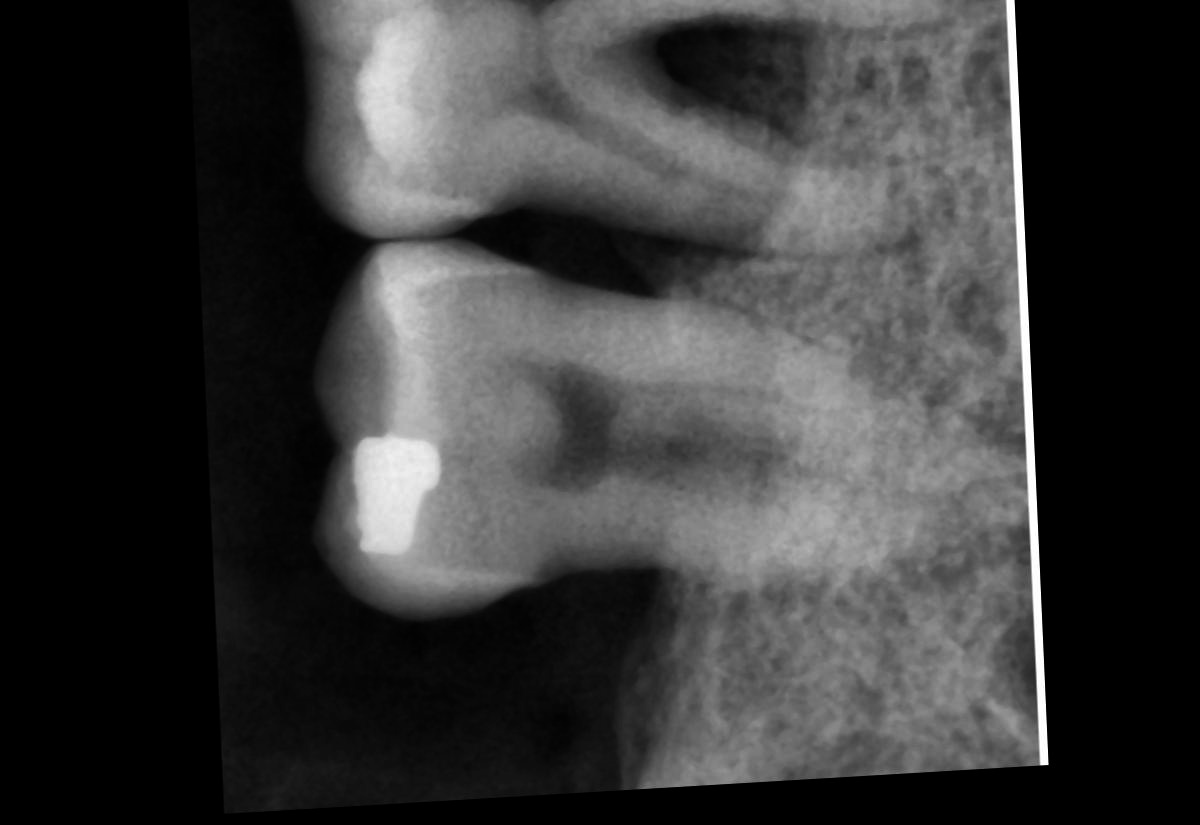Individual Tooth: (312, 244, 939, 620), (290, 0, 955, 264)
